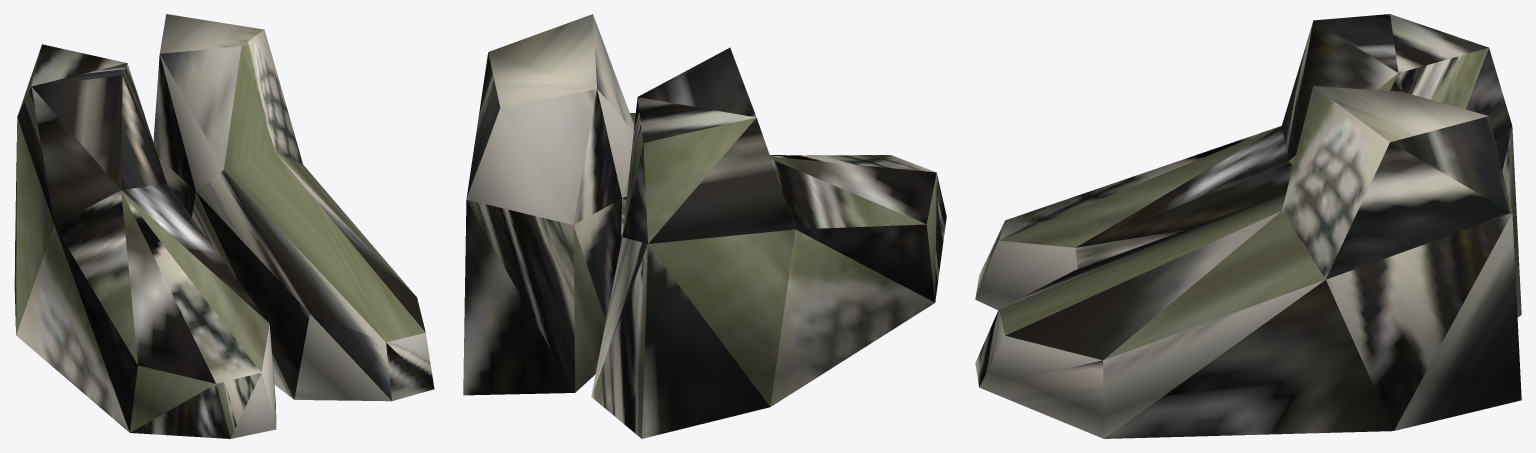
Rendered from f_Shoes2.glb.
3 views of the same model, side by side, from view 1: azimuth 30°, elevation 25°; view 2: azimuth 150°, elevation 25°; view 3: azimuth 270°, elevation 25° (orthographic). The views are drawn at different scales.
Visible parts, largest first — view 1: Shoes2; view 2: Shoes2; view 3: Shoes2.
Part boxes in pixels (x1,y1,x2,y2): Shoes2: (14,14,434,438); Shoes2: (463,14,946,438); Shoes2: (975,14,1521,438).
Size of the model in its own units: 10.31 by 8.99 by 14.68.
1 material, 1 textured.
